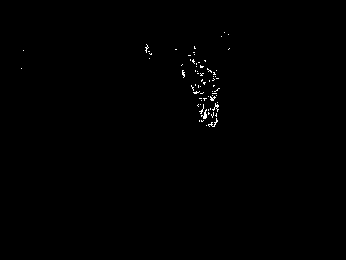person: (195, 58, 221, 128)
